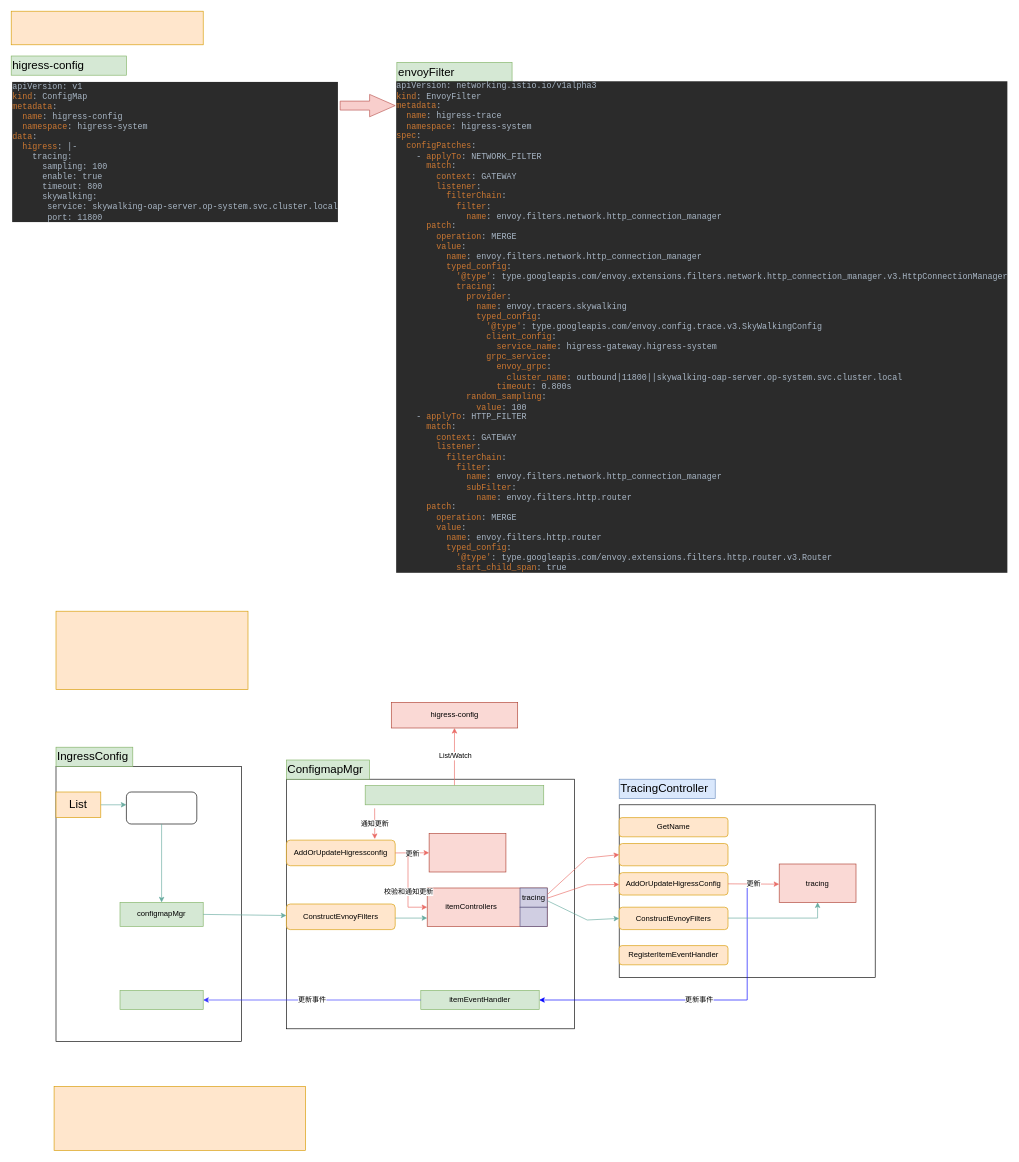
Some shapes in this 1019 by 1162 pixel diagram are drawn without their labels. The centre of each missing label's shape, as x and y in pixels:
gzip: (x=533, y=916)
higressConfig: (x=467, y=852)
higressConfigController: (x=454, y=795)
ValidateHigressconfig: (x=673, y=854)
XDSUpdater: (x=161, y=1000)
如何扩展： 1. 实现接口 ItemController 2. 添加到 ConfigmapMgr itemControllers: (x=179, y=1118)
核心流程： 1. 监控 higres_config 变更 2. 构建 EnvoyFilter 3. 实时下发 EnvoyFilter: (x=151, y=650)
聚合EnvoyFilters: (x=161, y=807)
解决什么问题？: (x=107, y=28)
